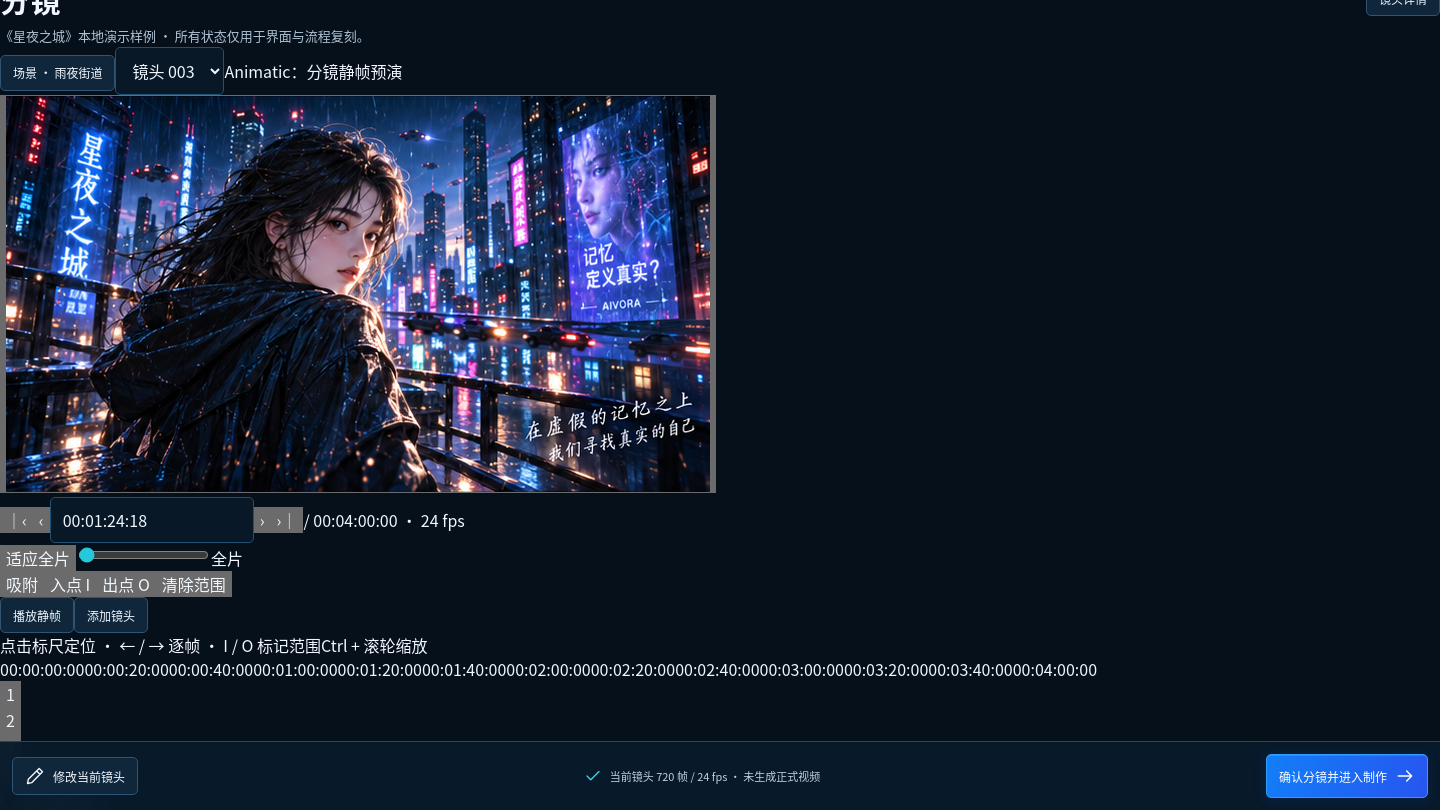
it: frame-accurate timeline controls › provides frame-level zoom and a fit command on storyboard
(page scrolled)
Set the slider named "时间轴缩放" to "6": (201, 555) left=78, top=545, right=209, bottom=565
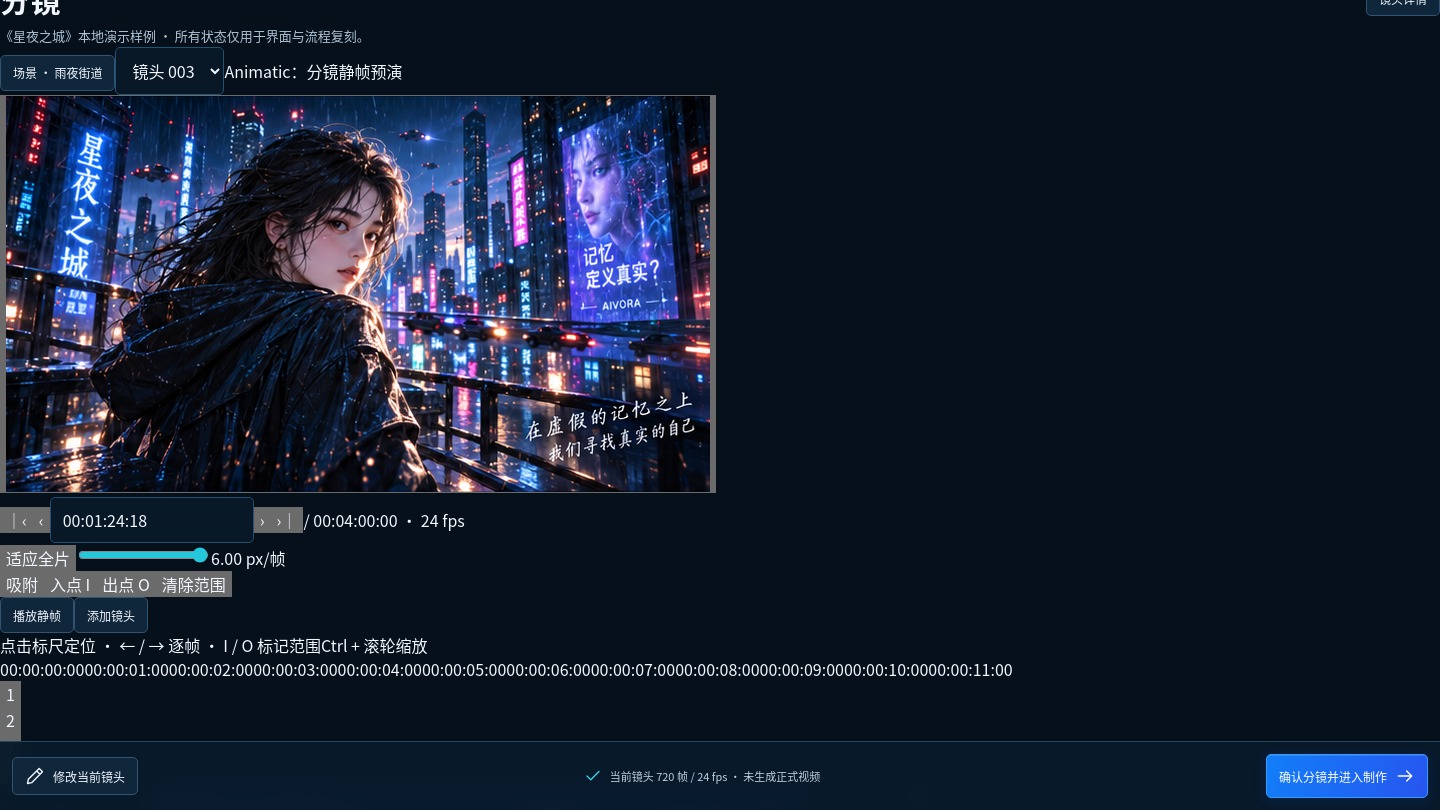
Expected: the text named "时间轴比例" reads "6.00 px/帧", left=211, top=546, right=286, bottom=570
Click the button "适应全片": (38, 558) left=0, top=545, right=76, bottom=571
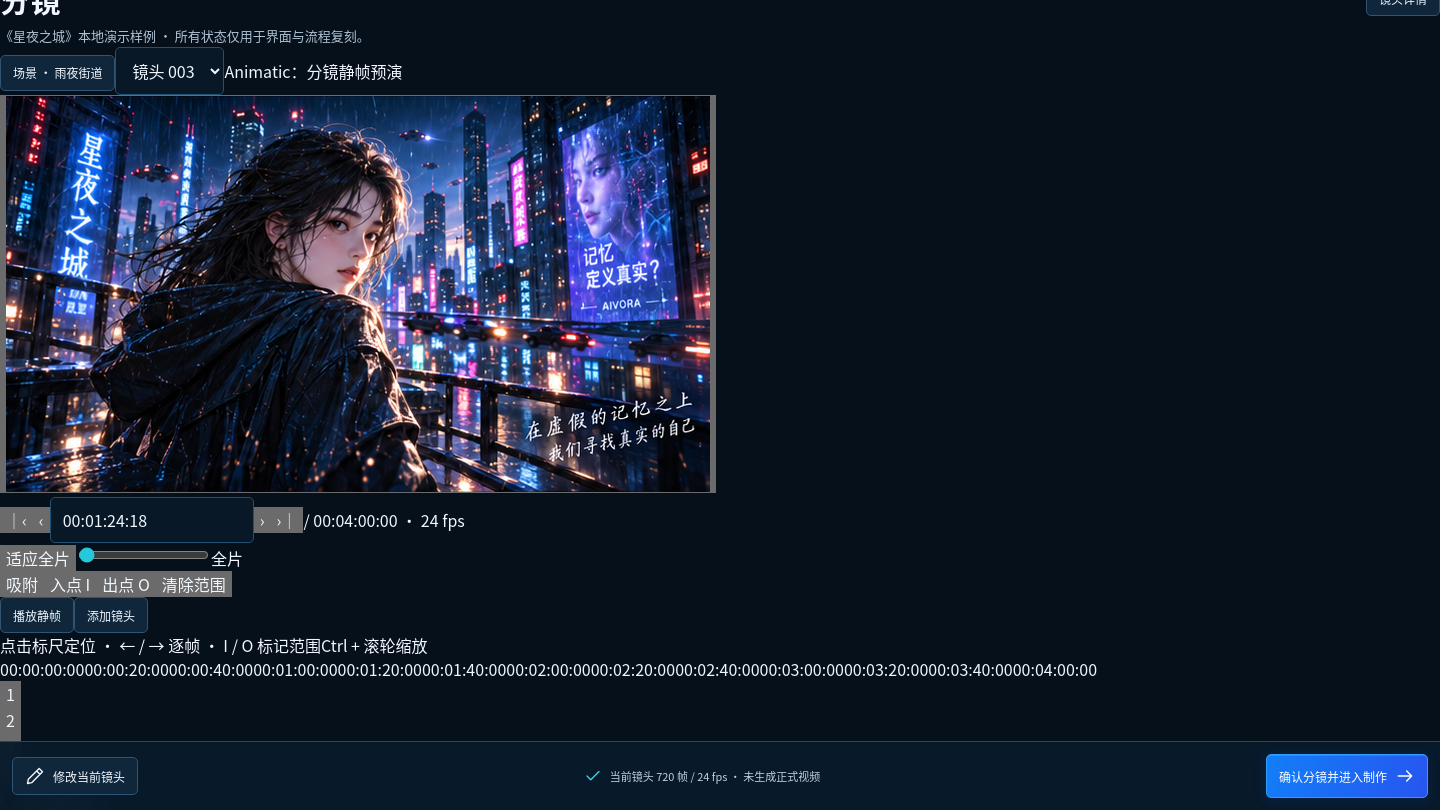
Expected: the text named "时间轴比例" reads "全片", left=211, top=546, right=243, bottom=570
